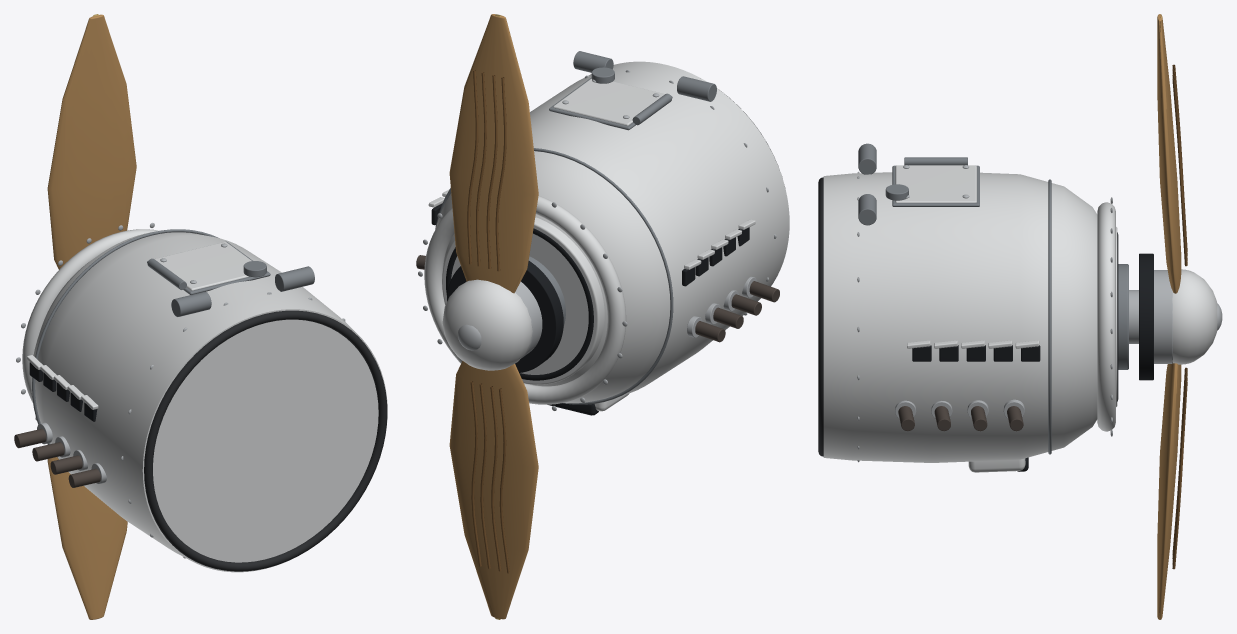
Rendered from prop_engine_nose.glb.
3 renders of one model, left to right at view 1: azimuth 30°, elevation 25°; view 2: azimuth 150°, elevation 25°; view 3: azimuth 270°, elevation 25°, orthographic.
Visible parts, largest first — view 1: flat_fuselage_cut, painted_cowl, wood_blade.001, fuselage_cut_gasket, wood_blade, service_panel_inset, front_rolled_lip, front_panel_seam, top_mount, top_mount.001; view 2: painted_cowl, wood_blade.001, wood_blade, front_rolled_lip, front_face, painted_spinner, service_panel_inset, prop_back_plate, annular_cooling_slot, front_panel_seam, prop_hub_metal, top_mount (+9 smaller); view 3: painted_cowl, front_rolled_lip, wood_blade.001, wood_blade, painted_spinner, service_panel_inset, prop_back_plate, prop_hub_metal, fuselage_cut_gasket, gearbox_face, front_panel_seam, lower_intake_lip (+4 smaller).
Boxes of the visible parts, left/top/right/bottom form: flat_fuselage_cut: left=142, top=309, right=387, bottom=572; painted_cowl: left=31, top=232, right=355, bottom=559; wood_blade.001: left=47, top=14, right=136, bottom=269; fuselage_cut_gasket: left=144, top=310, right=387, bottom=571; wood_blade: left=47, top=457, right=127, bottom=619; service_panel_inset: left=154, top=242, right=251, bottom=290; front_rolled_lip: left=22, top=229, right=159, bottom=403; front_panel_seam: left=32, top=229, right=219, bottom=457; top_mount: left=171, top=291, right=211, bottom=316; top_mount.001: left=275, top=266, right=314, bottom=291; painted_cowl: left=436, top=61, right=789, bottom=403; wood_blade.001: left=449, top=14, right=538, bottom=293; wood_blade: left=449, top=361, right=538, bottom=619; front_rolled_lip: left=424, top=196, right=626, bottom=404; front_face: left=442, top=217, right=604, bottom=384; painted_spinner: left=442, top=279, right=532, bottom=370; service_panel_inset: left=553, top=78, right=664, bottom=125; prop_back_plate: left=447, top=261, right=563, bottom=372; annular_cooling_slot: left=446, top=228, right=593, bottom=380; front_panel_seam: left=435, top=148, right=673, bottom=404; prop_hub_metal: left=465, top=281, right=542, bottom=358; top_mount: left=677, top=76, right=716, bottom=101; painted_cowl: left=823, top=172, right=1097, bottom=462; front_rolled_lip: left=1097, top=202, right=1115, bottom=431; wood_blade.001: left=1157, top=14, right=1181, bottom=293; wood_blade: left=1157, top=363, right=1181, bottom=619; painted_spinner: left=1172, top=269, right=1217, bottom=364; service_panel_inset: left=895, top=165, right=976, bottom=202; prop_back_plate: left=1139, top=253, right=1153, bottom=380; prop_hub_metal: left=1154, top=270, right=1173, bottom=363; fuselage_cut_gasket: left=818, top=177, right=823, bottom=456; gearbox_face: left=1118, top=264, right=1128, bottom=369; front_panel_seam: left=1048, top=179, right=1051, bottom=454; lower_intake_lip: left=968, top=458, right=1025, bottom=472.
Bounding box in the file's own units: 1.35 × 2.57 × 1.56.
